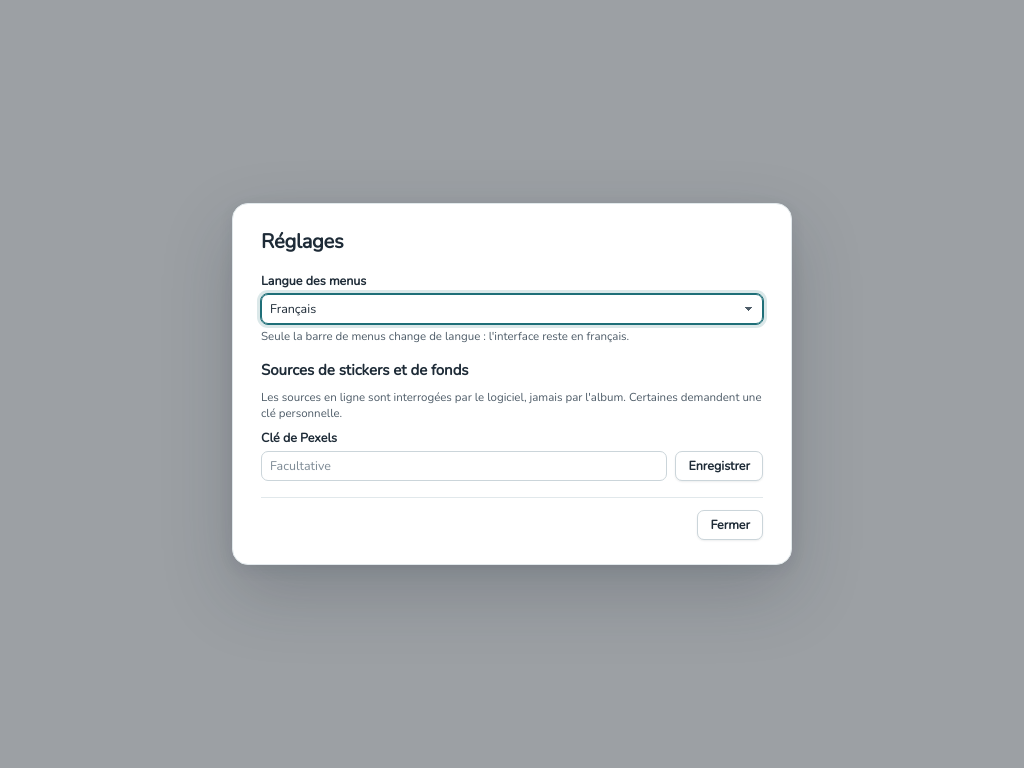
Test case: SettingsDialog › says so when the key cannot be saved
Click the button "Enregistrer".
click(719, 466)  # box [676,451,763,481]
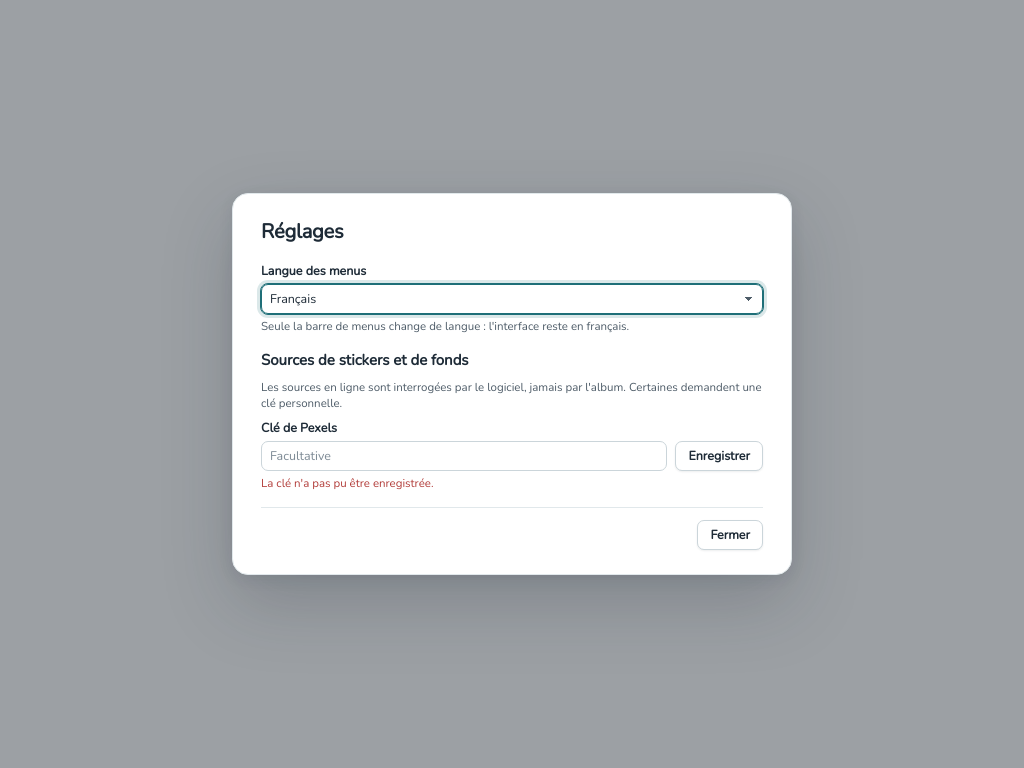
Now the text "La clé n'a pas pu être enregistrée." is shown, box [261,475,434,491]
